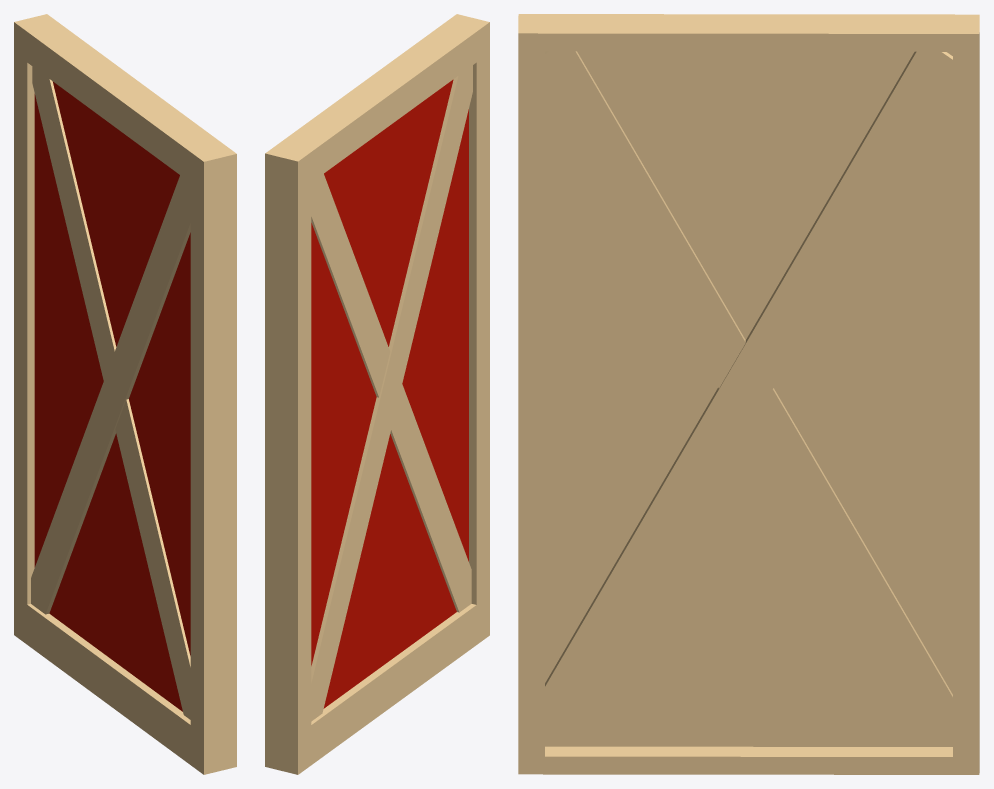
The model's file is animated door final.fbx.
3 renders of one model, left to right at view 1: azimuth 30°, elevation 25°; view 2: azimuth 150°, elevation 25°; view 3: azimuth 270°, elevation 25°, orthographic. The views are drawn at different scales.
Visible parts, largest first — view 1: door; view 2: door; view 3: door.
Part boxes in pixels (x1,y1,x2,y2): door: [14, 14, 236, 774]; door: [265, 14, 489, 774]; door: [518, 14, 979, 774].
Bounding box in the file's own units: 5.29 × 91.3 × 51.5.
